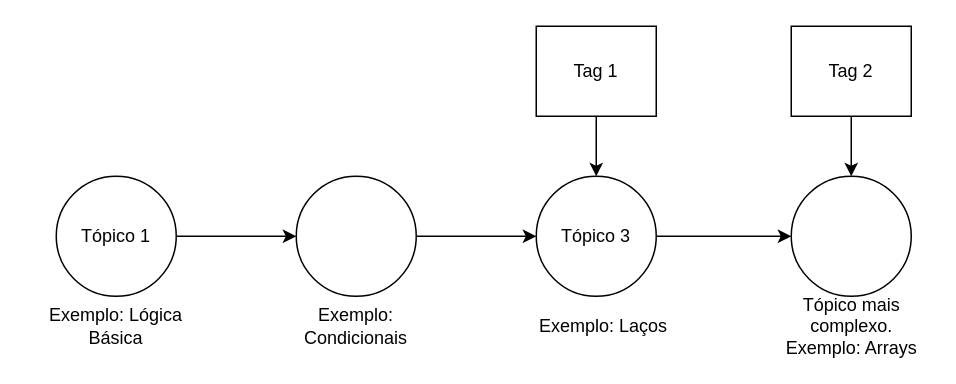
Image size: 956x384. Some labels were removed from this diagram. Each missing label, with the centre of its shape:
"Tópico 2" goes at point 355,235.
"Tópico 4" goes at point 850,235.
